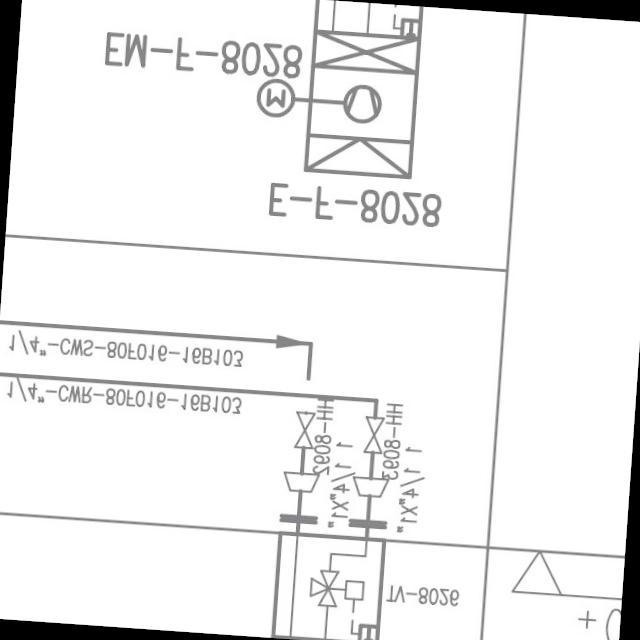3W: (302, 566, 344, 609)
GV: (360, 413, 386, 457), (292, 412, 316, 455)
M: (254, 78, 295, 122)
P: (342, 84, 384, 125)
SP: (346, 469, 389, 504), (278, 464, 320, 498)
